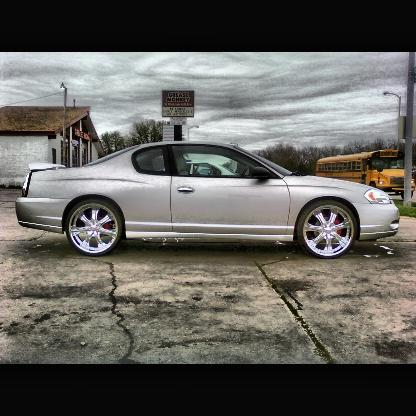Chevrolet Monte Carlo Coupe 2007: (11, 136, 407, 262)
